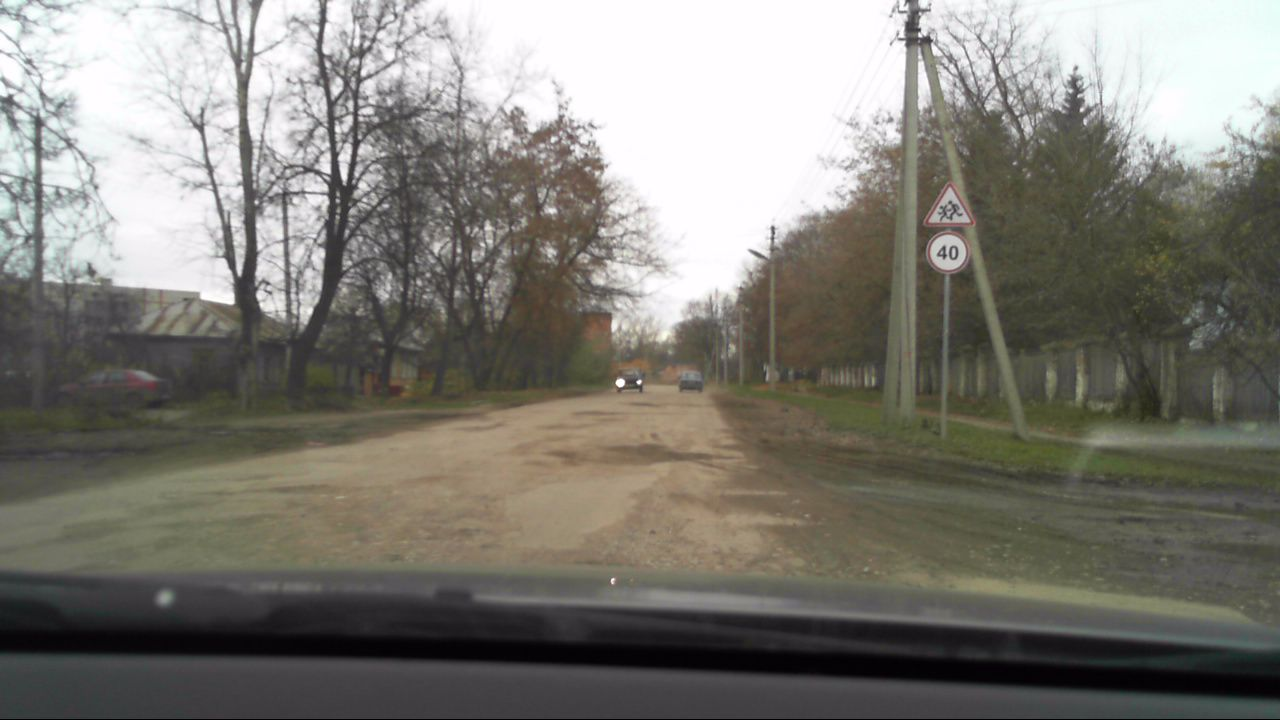speed_warning_40: (922, 230, 971, 276)
